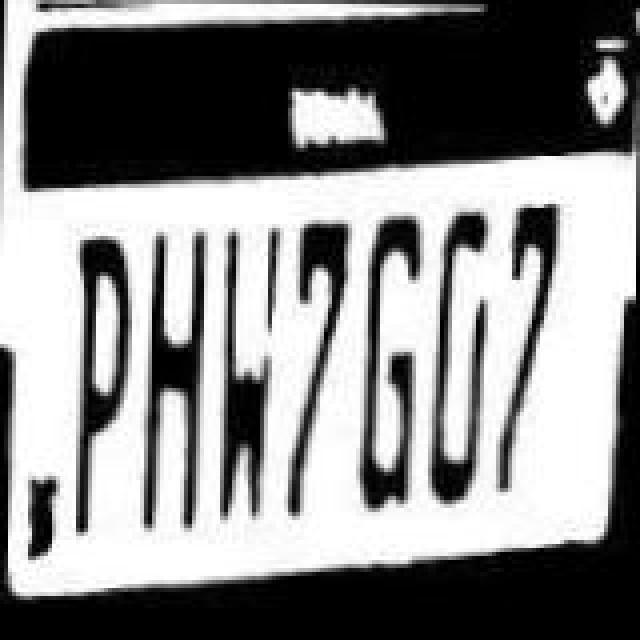7: (286, 216, 362, 516), (492, 210, 572, 486)
D: (430, 204, 498, 492)
G: (360, 212, 432, 516)
H: (136, 232, 220, 544)
P: (70, 228, 134, 540)
W: (212, 222, 284, 530)
